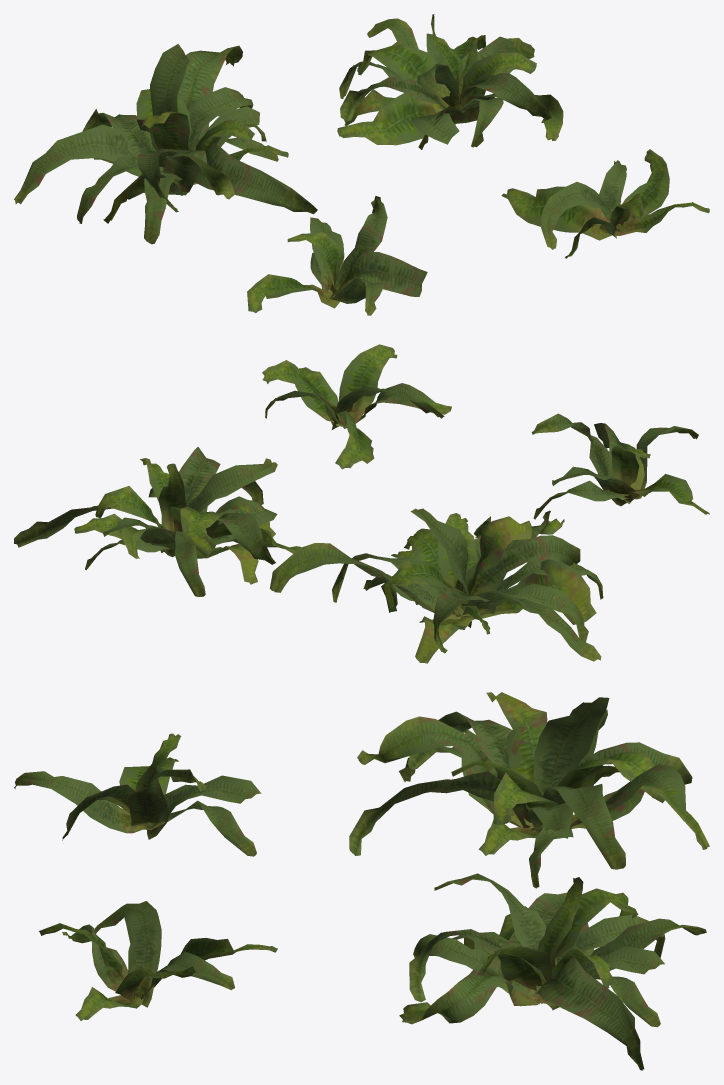
File: fern_02.glb
3 renders of one model, top to bottom at view 1: azimuth 30°, elevation 25°; view 2: azimuth 150°, elevation 25°; view 3: azimuth 270°, elevation 25°, orthographic. The views are drawn at different scales.
Visible parts, largest first — view 1: fern_02_b; view 2: fern_02_b; view 3: fern_02_b.
Boxes of the visible parts, x1,y1,x2,y2 form: fern_02_b: [14, 14, 709, 315]; fern_02_b: [14, 344, 709, 663]; fern_02_b: [14, 692, 709, 1070].
Bounding box in the file's own units: 1.97 × 0.4277 × 1.72.
Materials: 1 (1 with a texture image).
